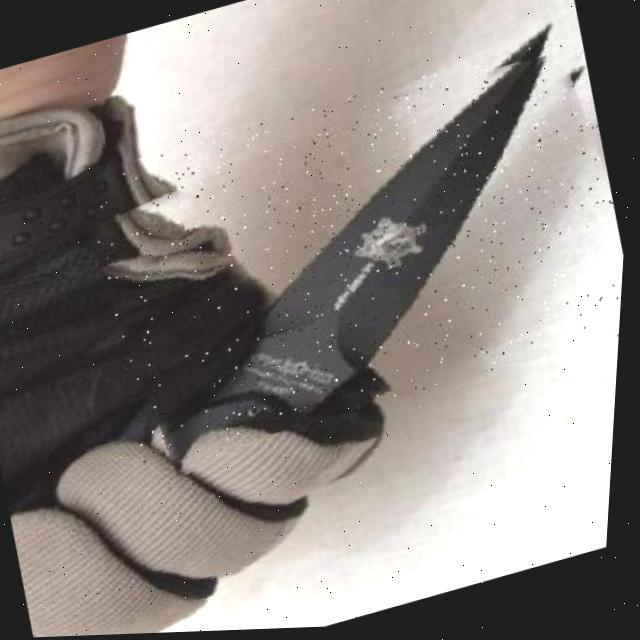knife: (70, 34, 638, 474)
